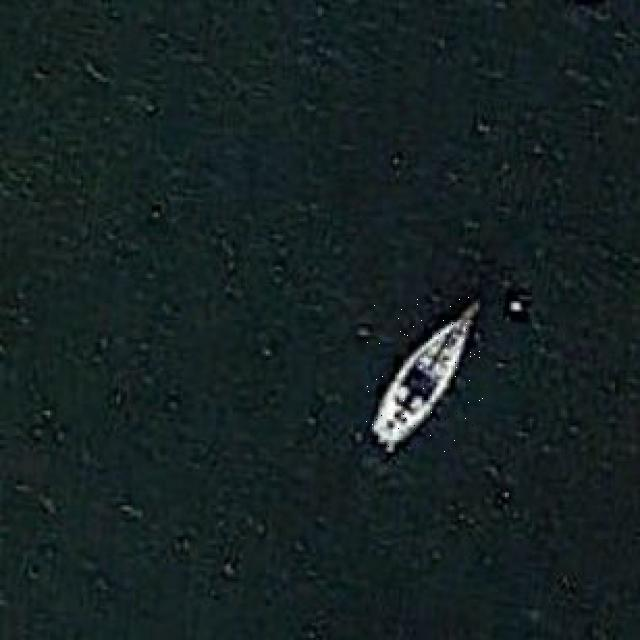boat: (366, 294, 486, 452)
